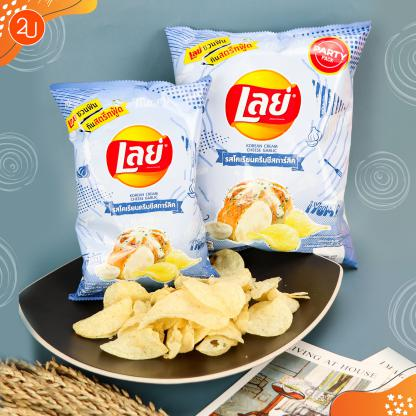potatochip: (155, 10, 377, 279), (44, 70, 226, 303)
